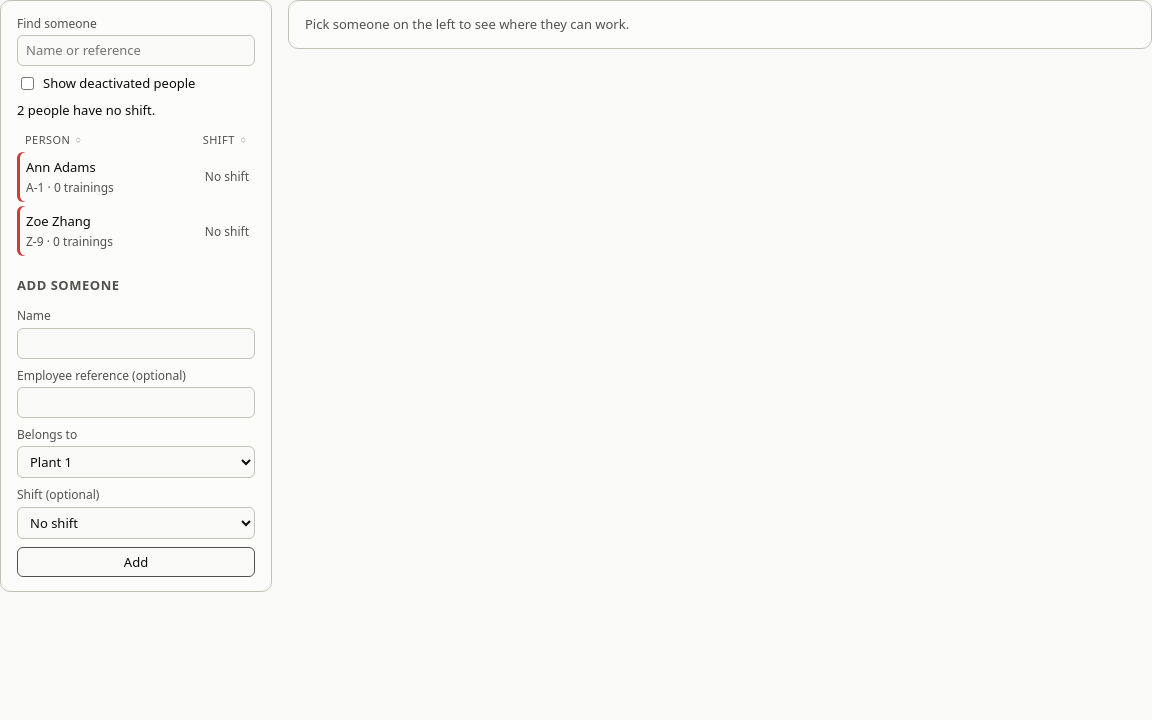
Scenario: OperatorsPanel — the count line names what it counts (§19.77) › O6 ⭐⭐ the maintainer's own case: two cells, both refusals, reads '0 of 2'
The image size is (1152, 720).
Step 1. Click the button "Ann Adams A-1 · 0 trainings" → [105, 177], box [17, 152, 193, 202]
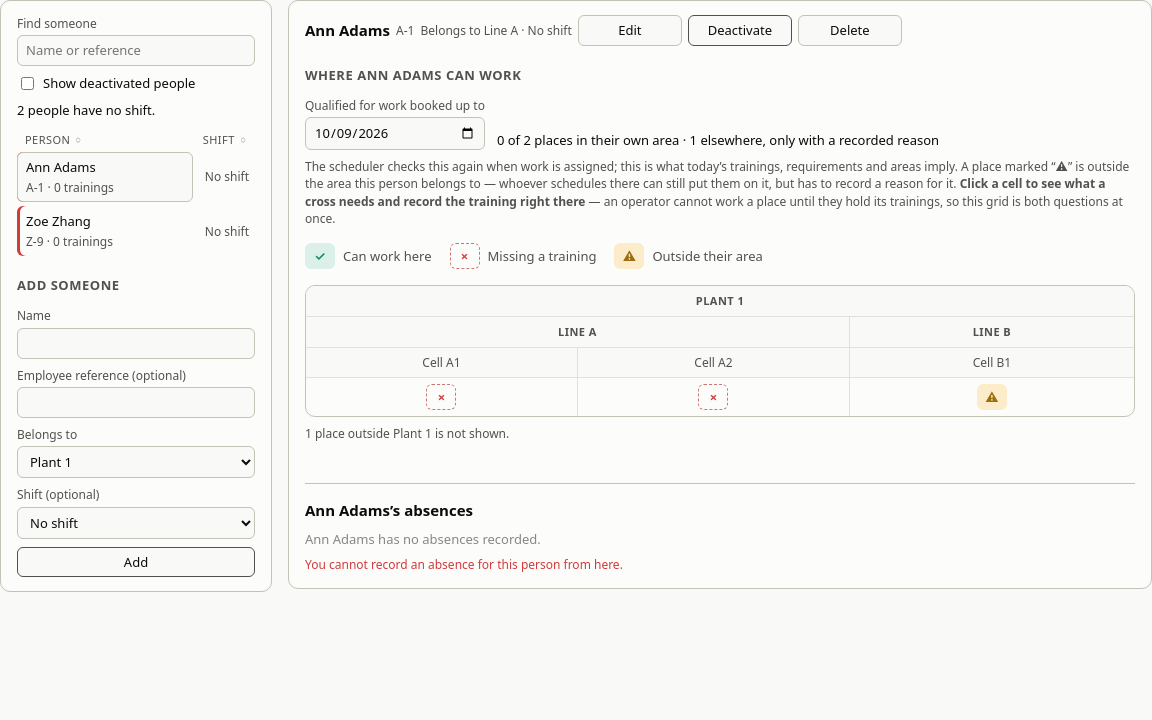
Expected: the text "in their own area" reads "0 of 2 places in their own area · 1 elsewhere, only with a recorded reason", [497, 131, 939, 150]
